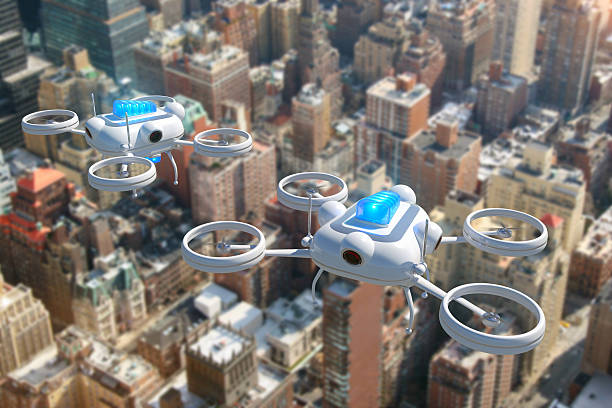Drone: (180, 171, 548, 355), (19, 88, 254, 194)
